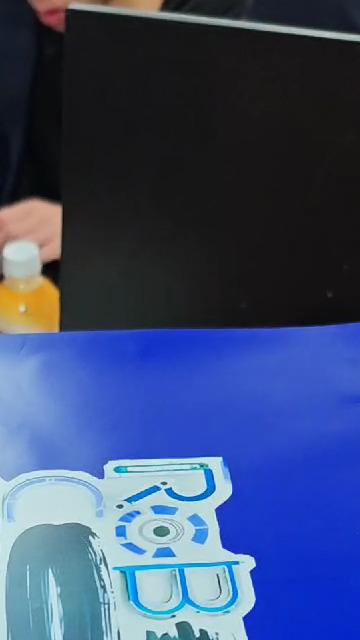B_R1: (0, 341, 347, 640)
